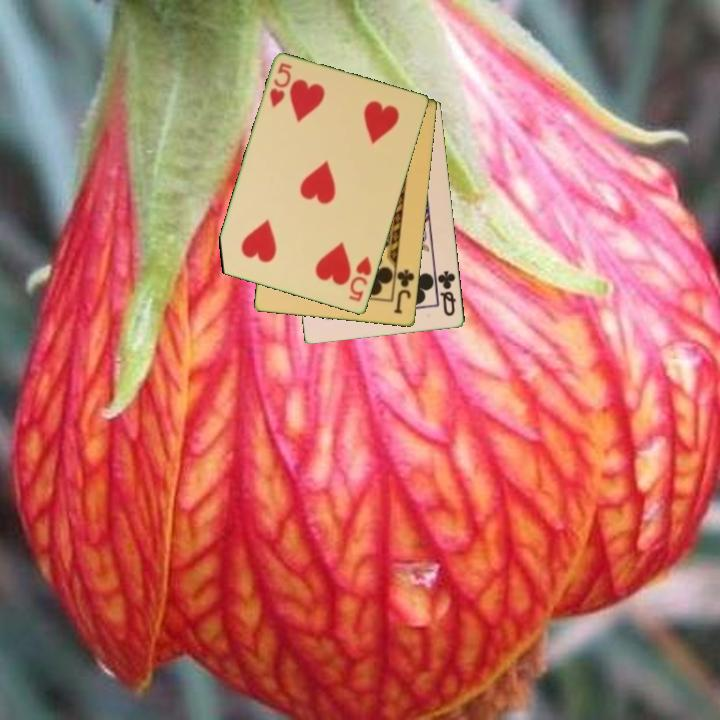5h: (346, 253, 375, 305), (266, 60, 295, 111)
Jc: (391, 266, 417, 317)
Qc: (434, 267, 459, 319)
